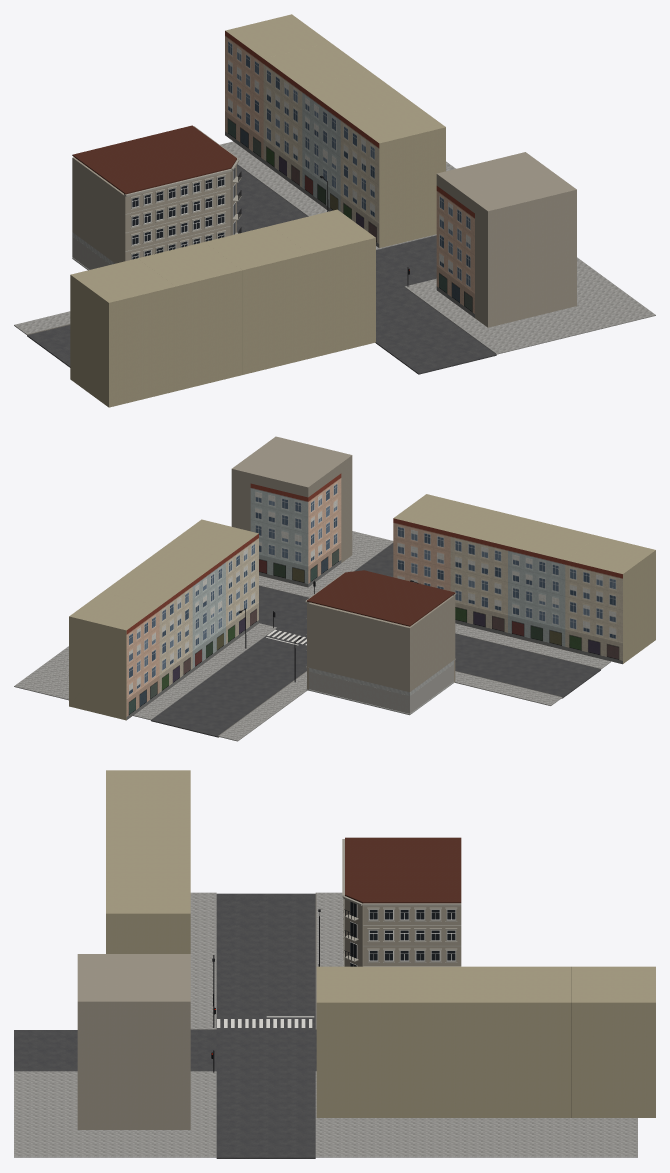
The model's file is laden.glb.
3 renders of one model, top to bottom at view 1: azimuth 30°, elevation 25°; view 2: azimuth 150°, elevation 25°; view 3: azimuth 270°, elevation 25°, orthographic. The views are drawn at different scales.
Visible parts, largest first — view 1: strasse|putz_gelb_hell|1, strasse|putz_beige|0, strasse|gehweg|0, strasse|haus_c|1, haus|putz_beige|0, haus|dach|0, strasse|asphalt|0, strasse|asphalt|1, strasse|haus_a|1, strasse|haus_b|1, strasse|haus_a|0, haus|putz_weiss|0 (+5 smaller); view 2: strasse|putz_gelb_hell|1, strasse|asphalt|0, strasse|haus_b|1, strasse|gehweg|0, haus|putz_beige|0, strasse|haus_c|1, strasse|haus_a|1, strasse|haus_a|0, strasse|putz_beige|0, haus|dach|0, fassade|wand_weiss|0, fassade|wand_weiss|1 (+2 smaller); view 3: strasse|putz_gelb_hell|1, strasse|gehweg|0, strasse|asphalt|0, strasse|putz_beige|0, haus|dach|0, haus|putz_beige|0, strasse|asphalt|1, haus|putz_weiss|0, haus|fenster_weiss|0, haus|glas_dunkel|1, haus|putz_weiss|1.
Part boxes in pixels (bbox=[...]): strasse|putz_gelb_hell|1: bbox=[70, 14, 445, 407]; strasse|putz_beige|0: bbox=[436, 152, 576, 327]; strasse|gehweg|0: bbox=[14, 141, 655, 354]; strasse|haus_c|1: bbox=[225, 31, 474, 317]; haus|putz_beige|0: bbox=[72, 157, 236, 263]; haus|dach|0: bbox=[72, 125, 236, 194]; strasse|asphalt|0: bbox=[27, 165, 436, 367]; strasse|asphalt|1: bbox=[375, 287, 496, 374]; strasse|haus_a|1: bbox=[263, 59, 302, 191]; strasse|haus_b|1: bbox=[302, 87, 340, 211]; strasse|haus_a|0: bbox=[340, 115, 379, 247]; haus|putz_weiss|0: bbox=[124, 126, 241, 259]; strasse|putz_gelb_hell|1: bbox=[69, 494, 655, 720]; strasse|asphalt|0: bbox=[151, 586, 600, 737]; strasse|haus_b|1: bbox=[192, 483, 565, 671]; strasse|gehweg|0: bbox=[14, 531, 610, 741]; haus|putz_beige|0: bbox=[307, 595, 455, 692]; strasse|haus_c|1: bbox=[126, 473, 450, 719]; strasse|haus_a|1: bbox=[159, 560, 622, 695]; strasse|haus_a|0: bbox=[226, 532, 507, 647]; strasse|putz_beige|0: bbox=[231, 436, 352, 562]; haus|dach|0: bbox=[307, 570, 455, 626]; fassade|wand_weiss|0: bbox=[368, 664, 453, 713]; fassade|wand_weiss|1: bbox=[309, 671, 368, 703]; strasse|putz_gelb_hell|1: bbox=[106, 770, 655, 1117]; strasse|gehweg|0: bbox=[14, 892, 637, 1157]; strasse|asphalt|0: bbox=[216, 893, 316, 1158]; strasse|putz_beige|0: bbox=[77, 954, 190, 1129]; haus|dach|0: bbox=[345, 837, 461, 903]; haus|putz_beige|0: bbox=[345, 899, 461, 966]; strasse|asphalt|1: bbox=[14, 1030, 314, 1158]; haus|putz_weiss|0: bbox=[342, 839, 461, 966]; haus|fenster_weiss|0: bbox=[350, 902, 455, 966]; haus|glas_dunkel|1: bbox=[369, 930, 455, 960]; haus|putz_weiss|1: bbox=[343, 896, 456, 962].
Size of the model in its own units: 90.8 by 20.32 by 90.8.
Materials: 134 (72 with a texture image).
